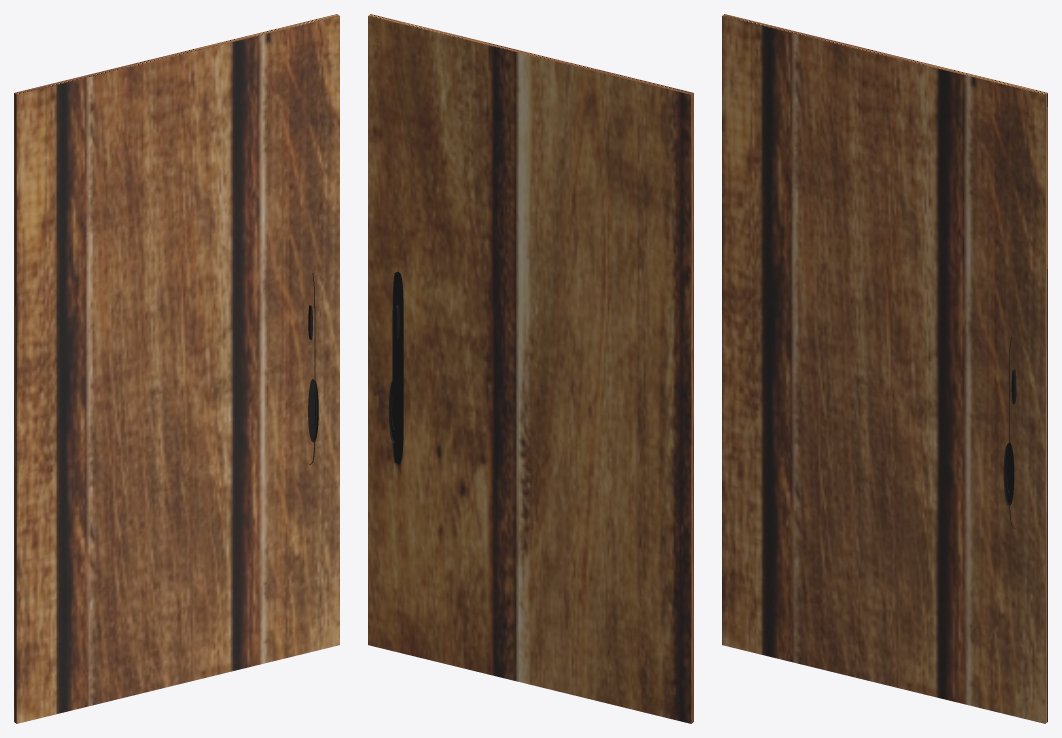
File: portacozinha.obj
The picture shows the model from 3 angles, left to right: view 1: azimuth 30°, elevation 25°; view 2: azimuth 150°, elevation 25°; view 3: azimuth 330°, elevation 25°; orthographic projection.
Parts seen in each view (by area): view 1: Cubo_Cubo.003, Cilindro; view 2: Cubo_Cubo.003, Cilindro; view 3: Cubo_Cubo.003, Cilindro.
Boxes of the visible parts, bbox=[...] form: Cubo_Cubo.003: bbox=[14, 14, 339, 723]; Cilindro: bbox=[307, 273, 318, 464]; Cubo_Cubo.003: bbox=[368, 14, 693, 723]; Cilindro: bbox=[388, 271, 403, 465]; Cubo_Cubo.003: bbox=[722, 14, 1047, 723]; Cilindro: bbox=[1003, 337, 1016, 528].
Bounding box in the file's own units: 2.15 × 4 × 0.1644.
Materials: 2 (1 with a texture image).
